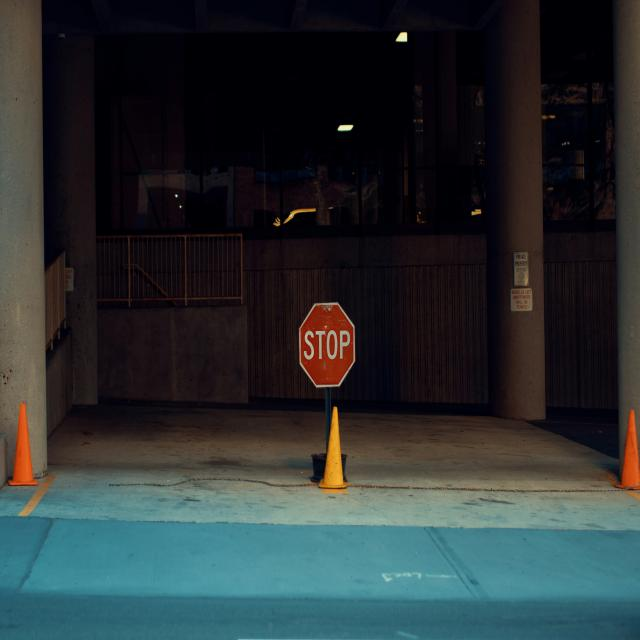Traffic Cone: (307, 395, 356, 505), (4, 392, 47, 506), (607, 386, 640, 499)
